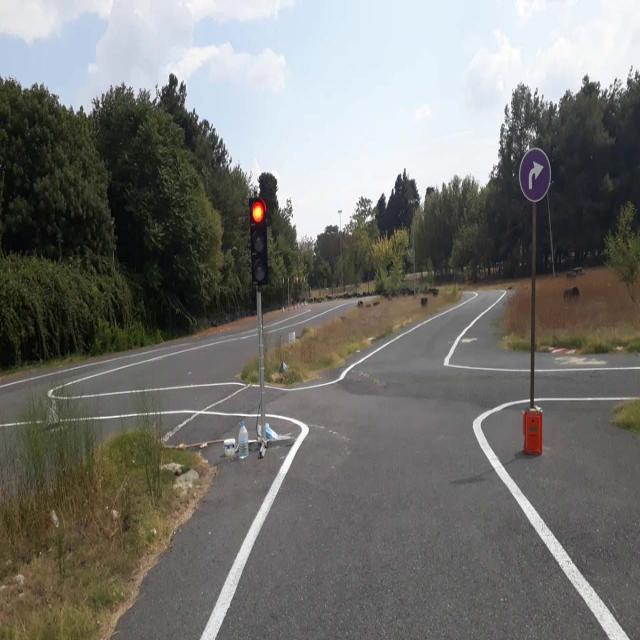kirmizi: (250, 196, 268, 282)
sag: (520, 150, 550, 199)
